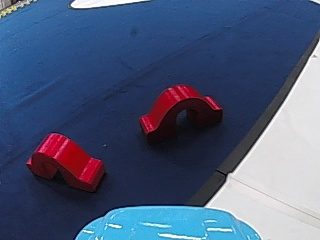bridge: (132, 80, 224, 141), (25, 130, 108, 193)
